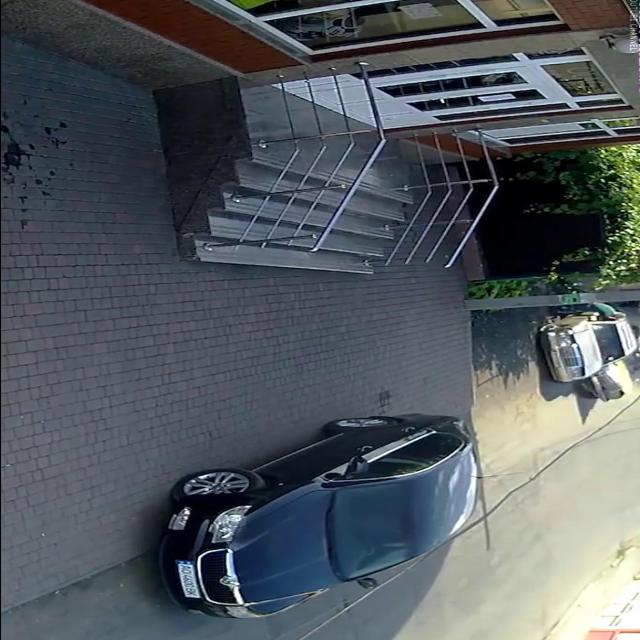accident: (521, 301, 640, 417)
